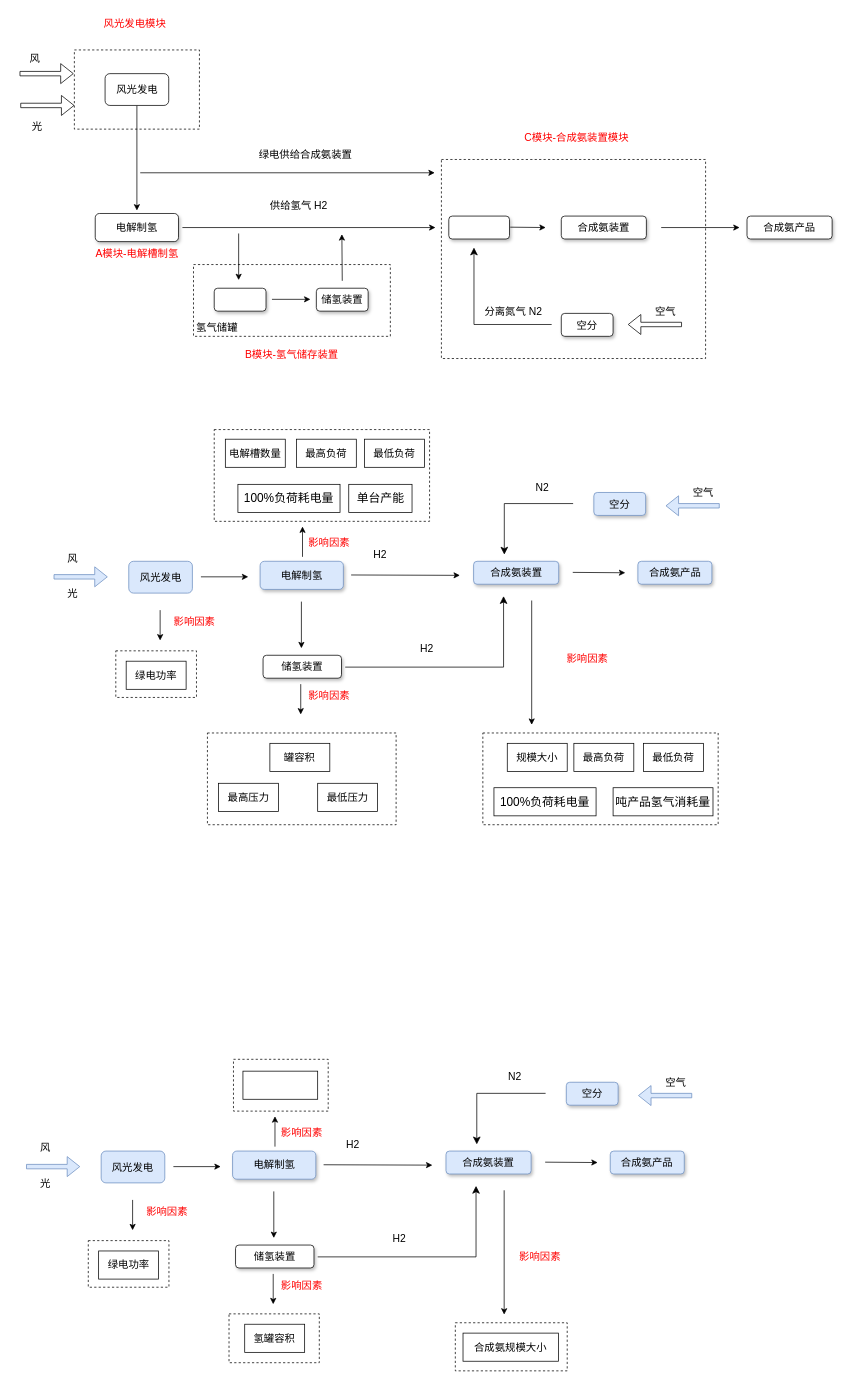
Image size: 850x1384. Some labels were removed from this diagram. The centre of each missing label's shape, as x and y in pixels:
"合成气压缩" belongs at pixel 479 228.
"氢气压缩" belongs at pixel 240 300.
"电解槽台数" belongs at pixel 280 1084.
